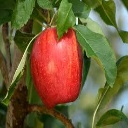apple: (31, 27, 83, 109)
